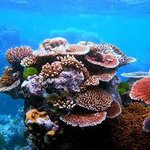alive: (1, 1, 148, 150)
